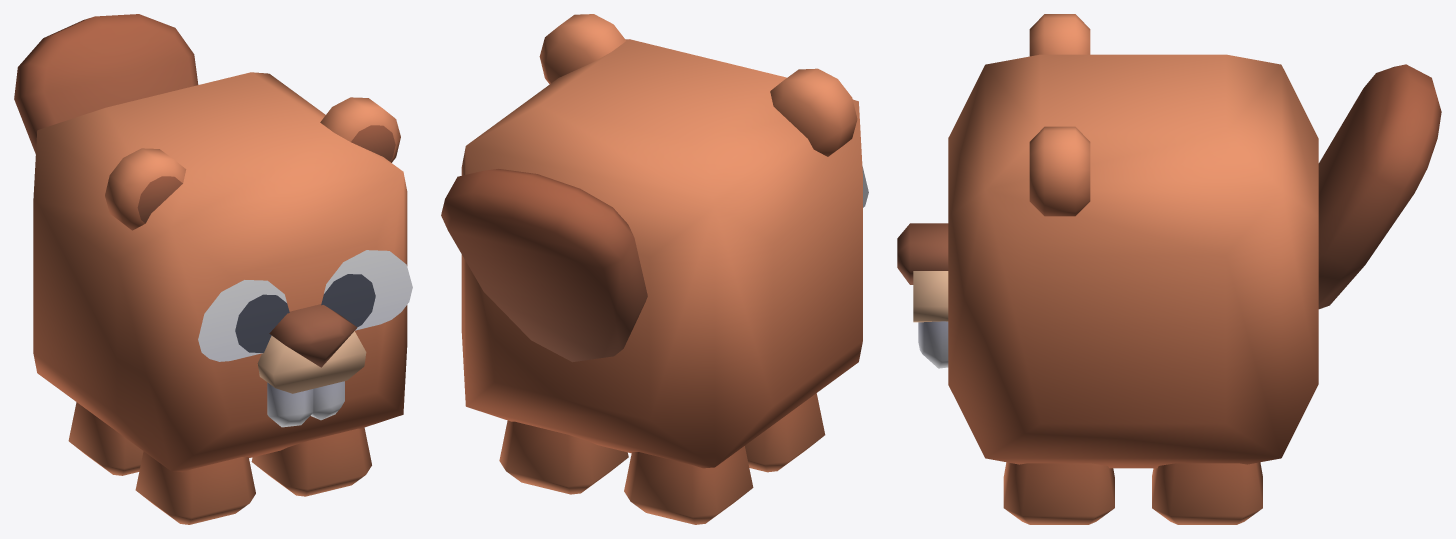
The model's file is kenney-cube-pets-animal-beaver-d761f1-e2cd06a1.glb.
The picture shows the model from 3 angles, left to right: view 1: azimuth 30°, elevation 25°; view 2: azimuth 150°, elevation 25°; view 3: azimuth 270°, elevation 25°; orthographic projection. The views are drawn at different scales.
Parts seen in each view (by area): view 1: body, tail, leg-front-right, leg-front-left, leg-back-right; view 2: body, tail, leg-back-right, leg-back-left, leg-front-right; view 3: body, tail, leg-front-left, leg-back-left.
Part boxes in pixels (x1,y1,x2,y2): body: (33, 72, 412, 472); tail: (14, 14, 198, 154); leg-front-right: (135, 451, 255, 524); leg-front-left: (251, 427, 371, 496); leg-back-right: (68, 402, 143, 475); body: (461, 14, 868, 468); tail: (441, 169, 647, 362); leg-back-right: (624, 446, 753, 524); leg-back-left: (499, 420, 628, 494); leg-front-right: (745, 393, 825, 472); body: (897, 14, 1318, 468); tail: (1318, 64, 1441, 309); leg-front-left: (1003, 462, 1114, 524); leg-back-left: (1152, 462, 1262, 524).
Bounding box in the file's own units: 0.5 × 0.6005 × 0.7348.
1 material, 1 textured.
